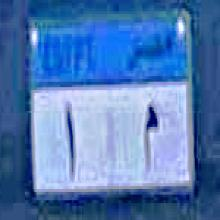1: (64, 98, 79, 186)
meem: (140, 98, 160, 174)
